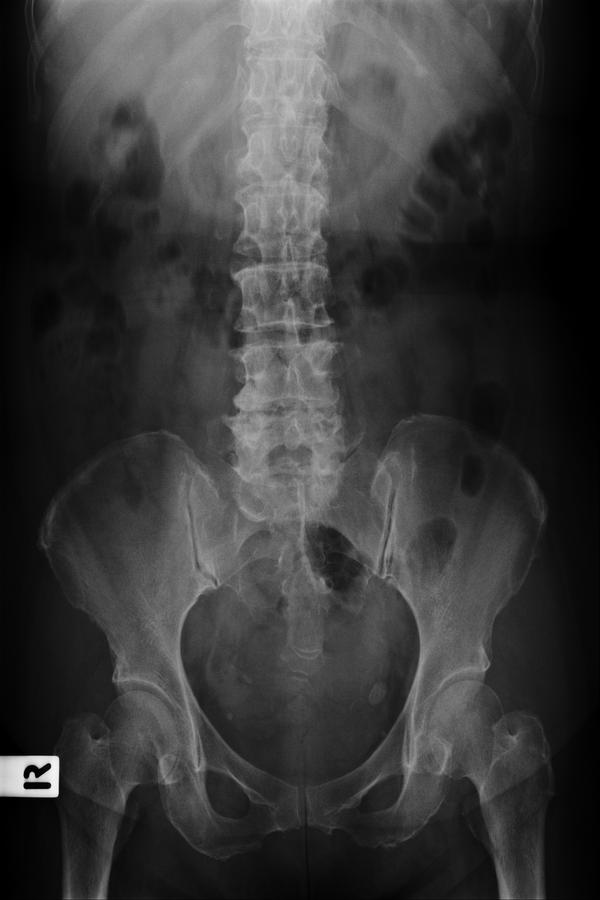lumbar scoliosis: (229, 137, 352, 495)
